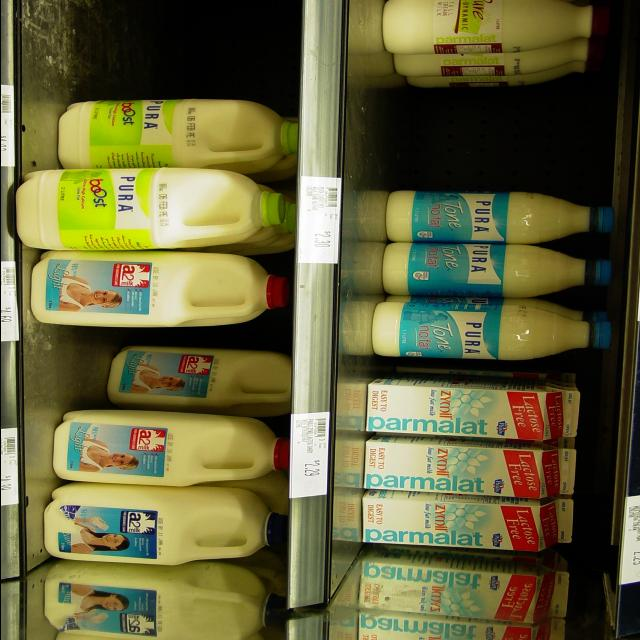empty_space: (18, 3, 294, 102), (348, 88, 584, 184), (23, 333, 99, 407)
